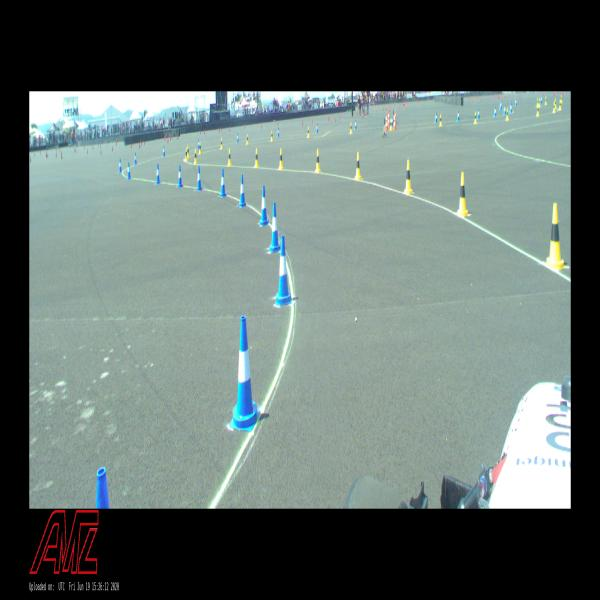blue_cone: (230, 316, 262, 431), (275, 235, 292, 306), (269, 202, 281, 252), (258, 186, 269, 226), (238, 175, 247, 207), (218, 169, 227, 197), (196, 166, 202, 190), (177, 165, 183, 188), (156, 164, 160, 183), (127, 162, 131, 179), (134, 152, 138, 164), (119, 158, 122, 173), (493, 106, 497, 117), (456, 110, 459, 121), (477, 108, 480, 119), (503, 104, 506, 115), (354, 119, 357, 129), (499, 101, 502, 111), (514, 98, 517, 107), (435, 112, 437, 123), (510, 102, 512, 113), (163, 145, 165, 156), (316, 123, 318, 133), (391, 116, 393, 126), (236, 133, 238, 142), (278, 128, 280, 136), (540, 96, 542, 103), (198, 140, 199, 148)
large_orange_cone: (385, 112, 388, 131), (393, 111, 396, 130), (394, 110, 397, 125), (387, 112, 390, 126)
yellow_cone: (546, 203, 566, 268), (457, 172, 468, 216), (404, 160, 412, 194), (355, 152, 361, 180), (278, 148, 284, 170), (315, 150, 321, 172), (227, 148, 232, 166), (255, 148, 259, 167), (194, 148, 197, 164), (198, 143, 202, 154), (185, 147, 188, 161), (439, 114, 442, 127), (474, 111, 477, 124), (187, 145, 190, 158), (536, 104, 539, 116), (307, 126, 310, 138), (220, 138, 223, 148), (246, 134, 249, 144), (536, 98, 539, 107), (271, 130, 273, 142), (350, 122, 352, 134), (506, 108, 508, 120), (390, 119, 392, 130), (553, 102, 555, 112), (559, 100, 561, 110), (538, 98, 540, 107), (545, 97, 547, 105), (555, 99, 556, 108), (561, 95, 562, 103)
